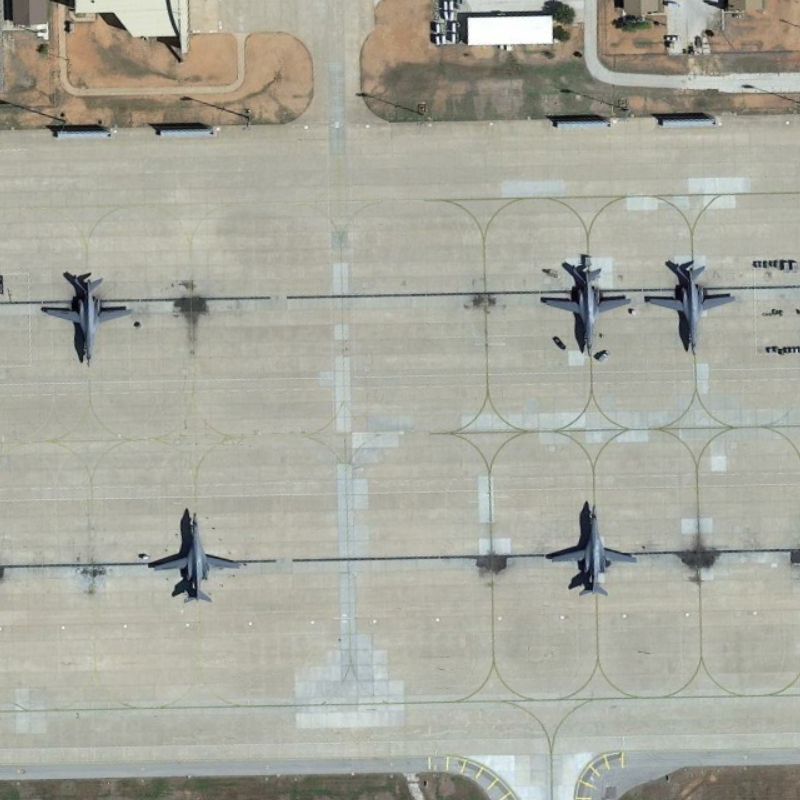A10: (143, 499, 258, 611), (30, 261, 149, 366), (532, 245, 635, 366), (644, 247, 743, 357), (545, 493, 638, 605)
